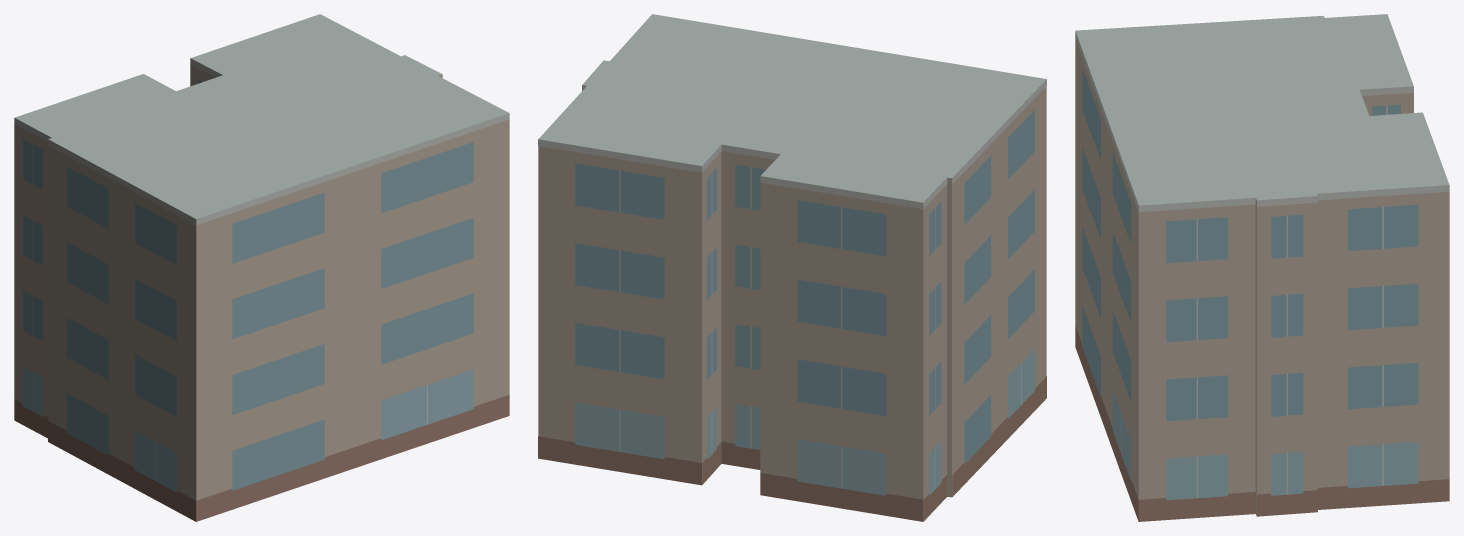
The model's file is survey-upis-32660696.glb.
The picture shows the model from 3 angles, left to right: view 1: azimuth 30°, elevation 25°; view 2: azimuth 150°, elevation 25°; view 3: azimuth 270°, elevation 25°; orthographic projection. The views are drawn at different scales.
Visible parts, largest first — view 1: survey-upis-32660696.tmp; view 2: survey-upis-32660696.tmp; view 3: survey-upis-32660696.tmp.
Part boxes in pixels (left/top/right/bottom): survey-upis-32660696.tmp: left=14, top=14, right=509, bottom=521; survey-upis-32660696.tmp: left=538, top=14, right=1046, bottom=521; survey-upis-32660696.tmp: left=1075, top=14, right=1449, bottom=521.
Size of the model in its own units: 15.36 by 11.8 by 12.67.
